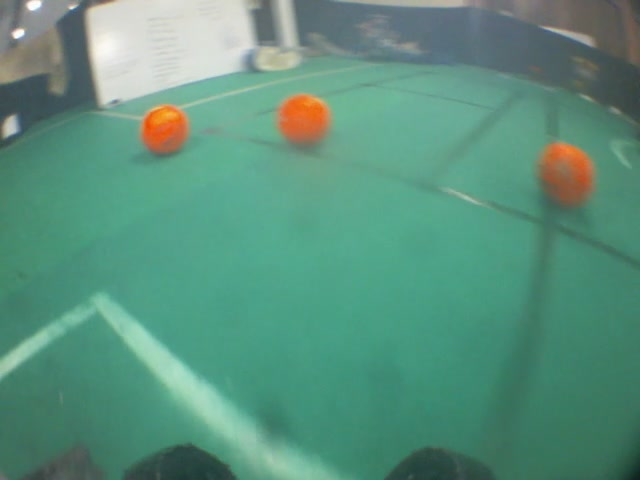ball: (528, 133, 597, 208), (270, 87, 333, 153), (133, 102, 193, 160)
